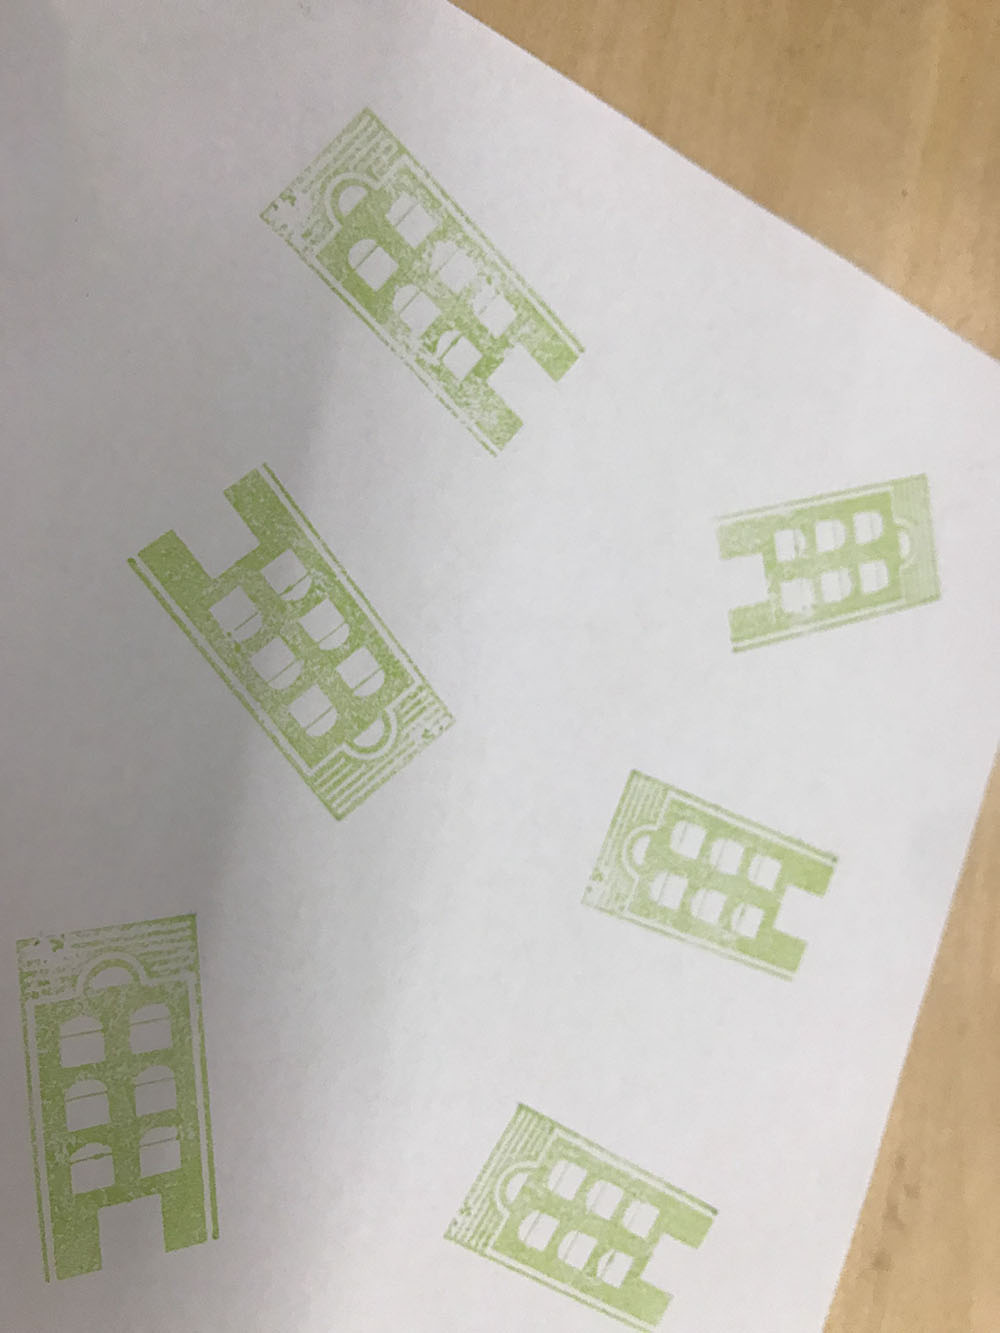build: (109, 453, 485, 831), (246, 83, 596, 460), (1, 907, 243, 1285), (403, 1072, 761, 1324), (559, 754, 856, 1001), (681, 440, 968, 693)
